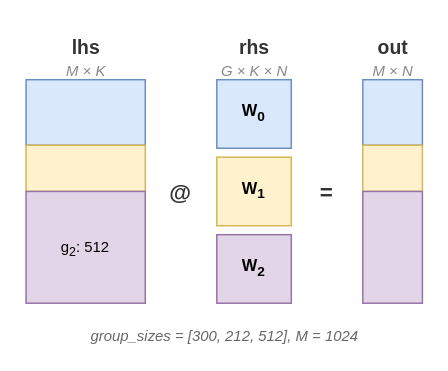
The diagram is 448 pixels wide and 371 high, and some of its shapes have lost their labels. The shapes that lost their labels are listed below. From the top down, each one's box as (x1, y1, x2, y2) in pixels, then its label:
(25, 78, 145, 145): g 0 : 300
(25, 144, 145, 191): g 1 : 212
